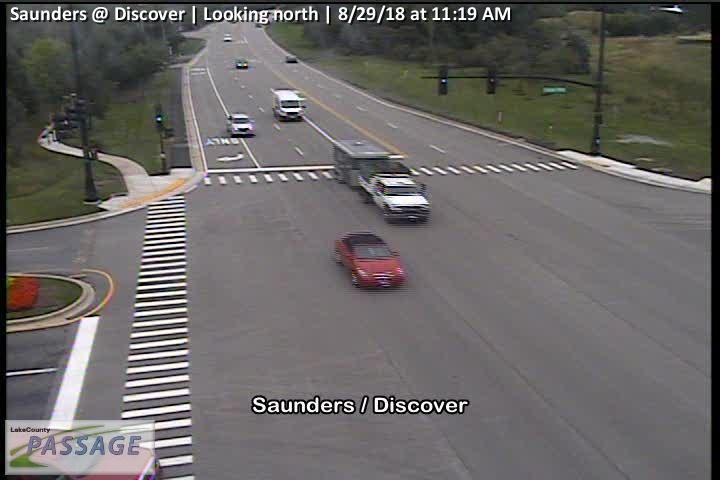SUV: (272, 88, 306, 122), (226, 113, 256, 137)
Sedan: (335, 232, 408, 290), (236, 57, 248, 68), (286, 55, 297, 63), (223, 34, 231, 41)
Truck: (334, 138, 431, 223)
